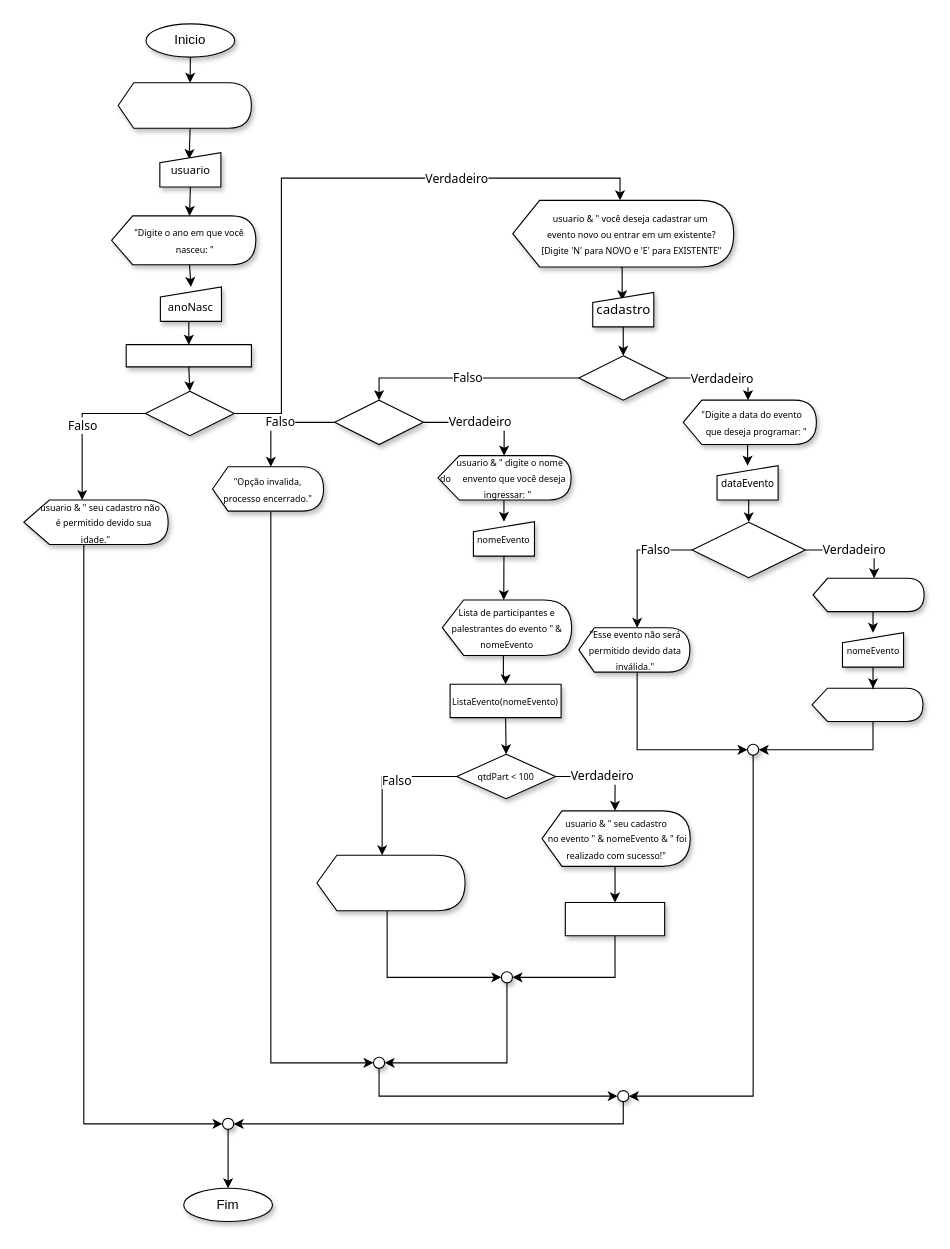
Image size: 950x1249. Some labels were removed from this diagram. Here are the shapes that lost their labels. From the top down, the centre of each, then its label:
[185,106]: "Bem vindo! Por favor entre com seu nome de usuário: "
[189,357]: idade <- anoAtual - anoNasc
[623,379]: cadastro = "N"
[190,414]: idade => 18
[379,423]: cadastro = "E"
[749,551]: dataEvento > dataAtual
[869,596]: "Digite um nome para seu evento: "
[868,706]: "Evento cadastrado com sucesso!"
[391,884]: "O evento " & nomeEvento & " Já está lotado, seu ingresso não será possível."
[615,920]: qtdPart <- qtdPart + 1
